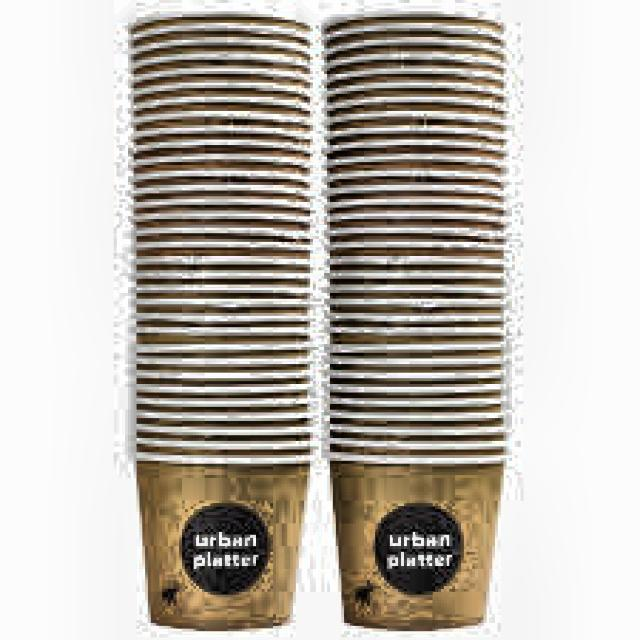Cup: (123, 13, 320, 630), (320, 10, 514, 631)
